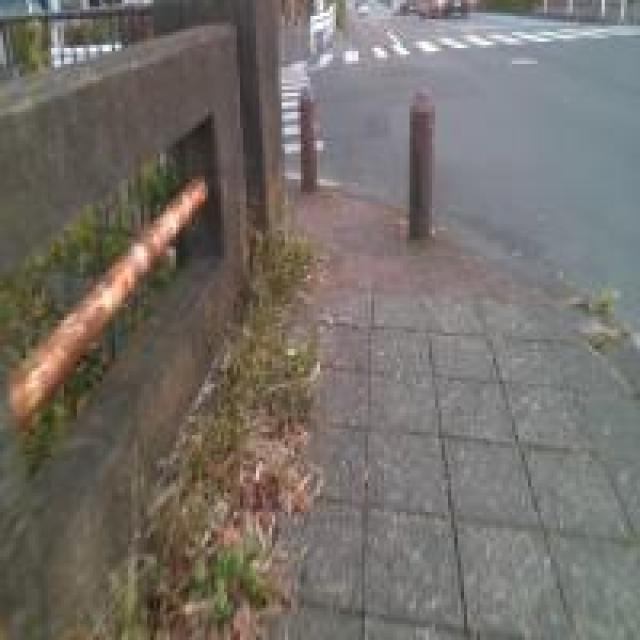Obstacle: (409, 93, 434, 239), (301, 93, 317, 192)
Road: (282, 8, 639, 320)
Sidewalk: (280, 189, 639, 639)
